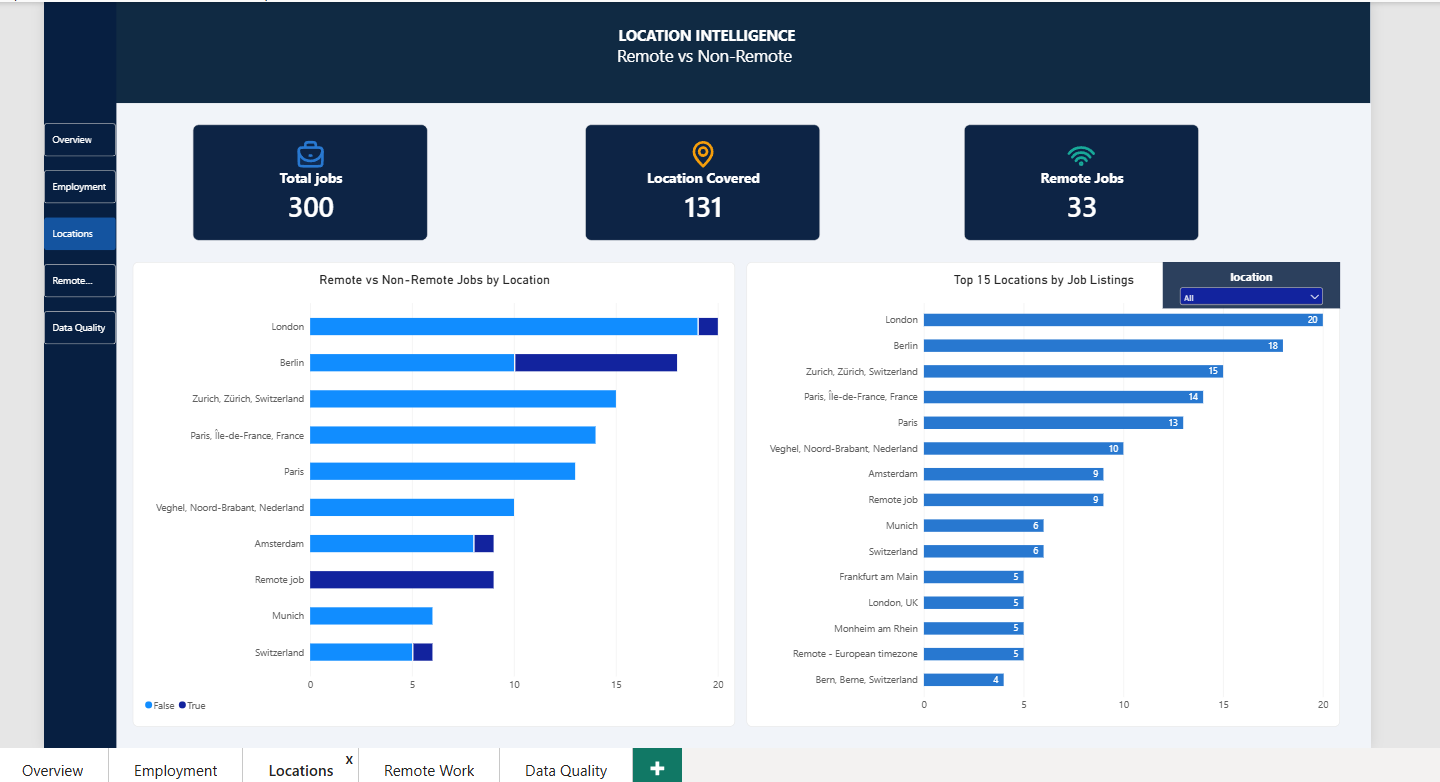

What the dashboard file says about the page in this screenshot:
{"tool":"powerbi","page":{"name":"Locations","canvas":[1920,1080],"ordinal":2},"visuals":[{"type":"shape","box":[0,0,105,1080.4],"z":0,"group":"g2"},{"type":"cardVisual","fields":{"Data":["public clean_jobs.Total jobs"]},"box":[215.3,177.3,340,168],"z":0,"group":"g1"},{"type":"pageNavigator","box":[0,175.5,105,320.3],"z":1000,"group":"g2"},{"type":"cardVisual","fields":{"Data":["public clean_jobs.Location Covered"]},"box":[783.3,177.3,340,168],"z":1000,"group":"g1"},{"type":"cardVisual","fields":{"Data":["public clean_jobs.Remote Jobs"]},"box":[1331.3,177.3,340,168],"z":2000,"group":"g1"},{"type":"image","box":[323.3,197.3,124,46],"z":3000,"group":"g1"},{"type":"image","box":[891.3,197.3,124,46],"z":4000,"group":"g1"},{"type":"image","box":[1439.3,199.3,124,46],"z":5000,"group":"g1"},{"type":"barChart","title":"Top 15 Locations by Job Listings","fields":{"Category":["public clean_jobs.location"],"Y":["public clean_jobs.Total jobs"]},"box":[1017,376.4,859.6,673.2],"z":6000},{"type":"barChart","title":"Remote vs Non-Remote Jobs by Location","fields":{"Category":["public clean_jobs.location"],"Series":["public clean_jobs.remote"],"Y":["public clean_jobs.Total jobs"]},"box":[128.5,376.4,872.3,673.2],"z":7000},{"type":"slicer","title":" ","fields":{"Values":["public clean_jobs.location"]},"box":[1619.6,376.4,257,67],"z":8000},{"type":"group","id":"g1","title":"Group 1","box":[215.3,177.3,1455,168.3],"z":8001},{"type":"shape","box":[0,0,1920.4,146.3],"z":8002},{"type":"textbox","box":[229.6,13,1459.3,103.7],"z":8003},{"type":"group","id":"g2","title":"Group 2","box":[0,0,105,1080.4],"z":8004}]}

Visuals, with their boxes on the page's 1920x1080 design canvas (x1, y1, x2, y2). These are canvas units, not pixel positions in the 1440x782 screenshot, which may show the page scaled, cropped or inside an application window:
shape: left=0, top=0, right=105, bottom=1080
cardVisual - public clean_jobs.Total jobs: left=215, top=177, right=555, bottom=345
pageNavigator: left=0, top=176, right=105, bottom=496
cardVisual - public clean_jobs.Location Covered: left=783, top=177, right=1123, bottom=345
cardVisual - public clean_jobs.Remote Jobs: left=1331, top=177, right=1671, bottom=345
image: left=323, top=197, right=447, bottom=243
image: left=891, top=197, right=1015, bottom=243
image: left=1439, top=199, right=1563, bottom=245
"Top 15 Locations by Job Listings" barChart: left=1017, top=376, right=1877, bottom=1050
"Remote vs Non-Remote Jobs by Location" barChart: left=128, top=376, right=1001, bottom=1050
" " slicer: left=1620, top=376, right=1877, bottom=443
"Group 1" group: left=215, top=177, right=1670, bottom=346
shape: left=0, top=0, right=1920, bottom=146
textbox: left=230, top=13, right=1689, bottom=117
"Group 2" group: left=0, top=0, right=105, bottom=1080
